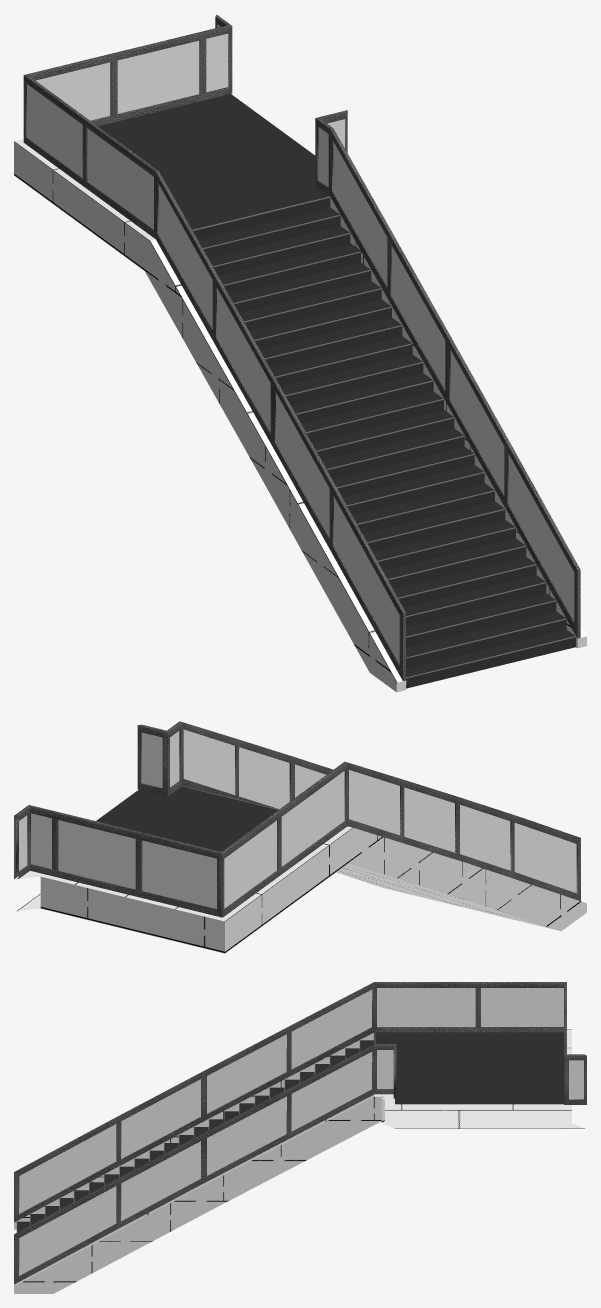
The model's file is Stairs04_45Deg265x950x350cm.FBX.
The picture shows the model from 3 angles, top to bottom: view 1: azimuth 30°, elevation 25°; view 2: azimuth 150°, elevation 25°; view 3: azimuth 270°, elevation 25°; orthographic projection. The views are drawn at different scales.
Visible parts, largest first — view 1: Stairs, Parapet; view 2: Parapet, Stairs; view 3: Parapet, Stairs.
Boxes of the visible parts, bbox=[...] form: Stairs: bbox=[98, 94, 575, 688]; Parapet: bbox=[14, 14, 586, 692]; Parapet: bbox=[14, 721, 586, 953]; Stairs: bbox=[96, 786, 278, 851]; Parapet: bbox=[14, 982, 586, 1293]; Stairs: bbox=[16, 1032, 564, 1232].
Bounding box in the file's own units: 329 × 500 × 1053.
